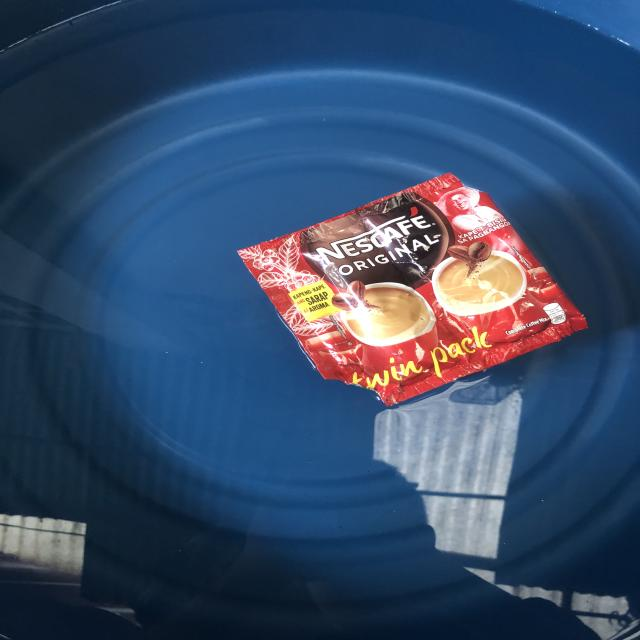Plastic Wrapper: (239, 175, 586, 404)
